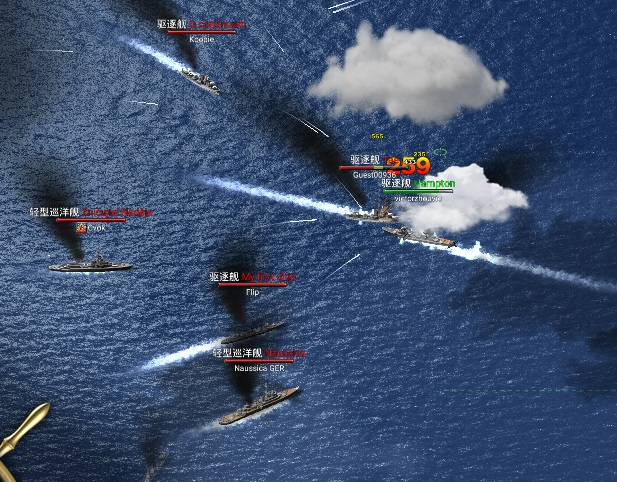ship: (220, 386, 302, 424), (220, 319, 288, 345), (49, 258, 136, 277), (384, 225, 455, 248), (178, 65, 221, 95), (347, 206, 400, 225)
